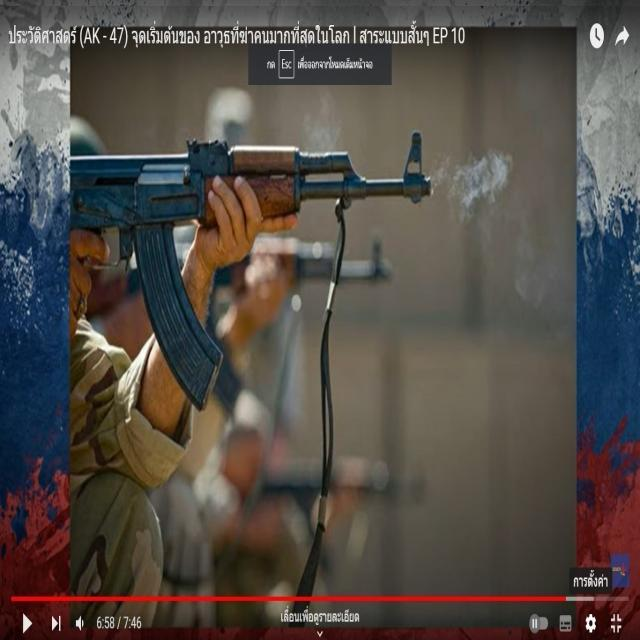ak: (66, 124, 440, 406)
